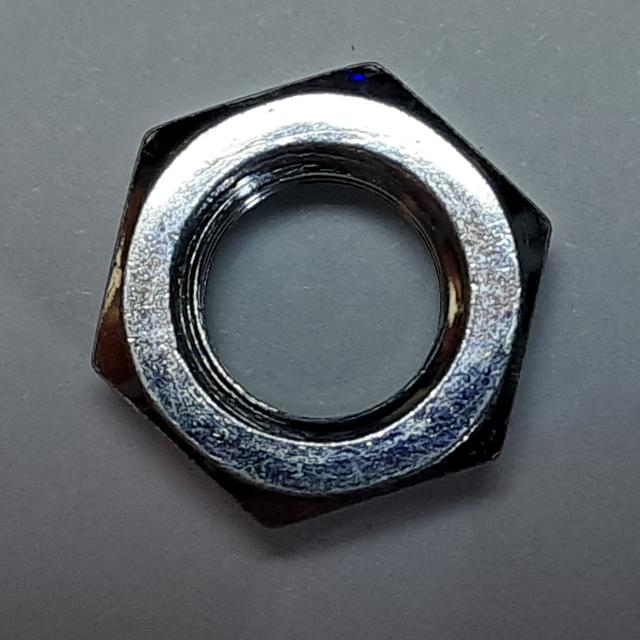Excellent: (79, 53, 566, 547)
